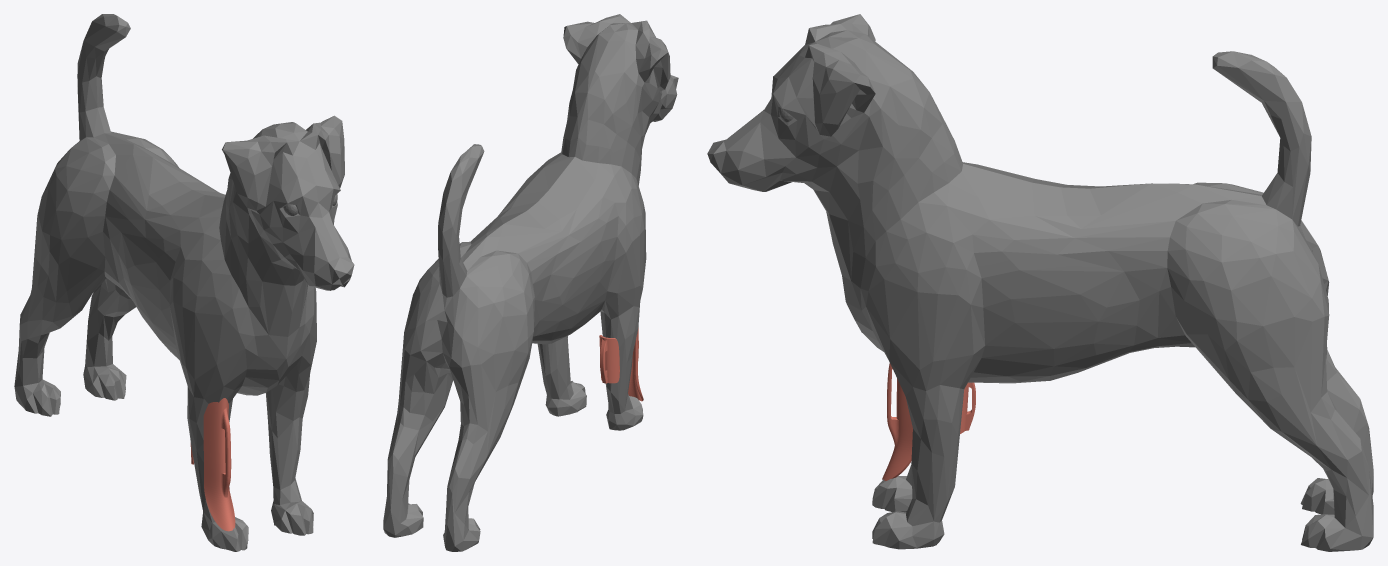
File: Carpo.glb
The picture shows the model from 3 angles, left to right: view 1: azimuth 30°, elevation 25°; view 2: azimuth 150°, elevation 25°; view 3: azimuth 270°, elevation 25°; orthographic projection. The views are drawn at different scales.
Parts seen in each view (by area): view 1: escaladas mollypollo; view 2: escaladas mollypollo; view 3: escaladas mollypollo.
Part boxes in pixels (x1,y1,x2,y2): escaladas mollypollo: (14,14,354,551); escaladas mollypollo: (383,14,678,551); escaladas mollypollo: (707,14,1373,551).
Bounding box in the file's own units: 21.51 × 66.78 × 82.5.
